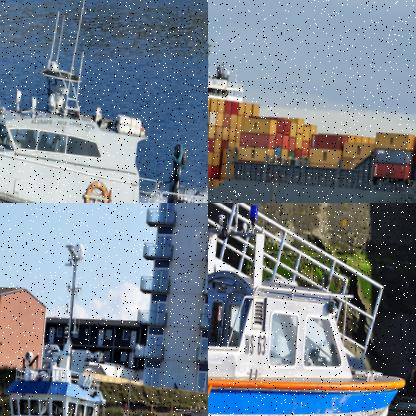Fishing Boat: (0, 232, 199, 415)
Merchant Ship: (208, 36, 415, 202)
Patrol Boat: (208, 203, 415, 415), (0, 0, 207, 202)
